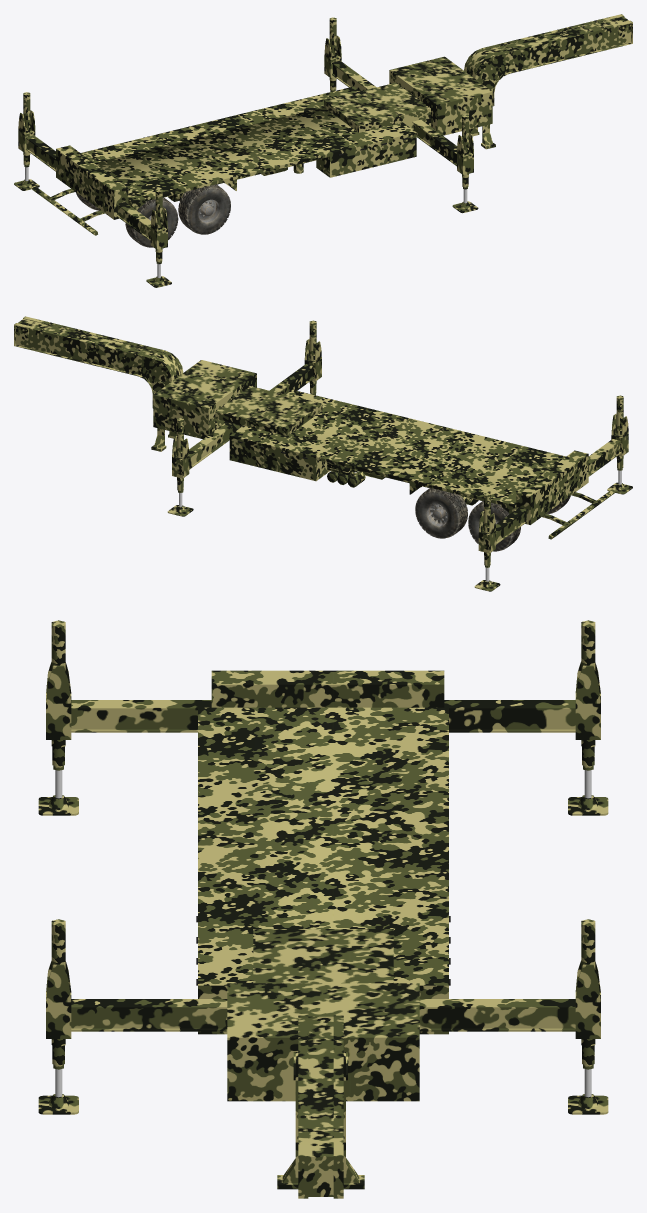
Rendered from part_tower.fbx.
3 views of the same model, one above another, from view 1: azimuth 30°, elevation 25°; view 2: azimuth 150°, elevation 25°; view 3: azimuth 270°, elevation 25° (orthographic). The views are drawn at different scales.
Parts seen in each view (by area): view 1: 3d66-Editable_Poly-20185282-001; view 2: 3d66-Editable_Poly-20185282-001; view 3: 3d66-Editable_Poly-20185282-001.
Boxes of the visible parts, x1,y1,x2,y2 form: 3d66-Editable_Poly-20185282-001: (14, 14, 632, 287); 3d66-Editable_Poly-20185282-001: (14, 316, 632, 591); 3d66-Editable_Poly-20185282-001: (38, 620, 608, 1198).
Size of the model in its own units: 1291 by 202 by 565.
4 materials, 2 textured.
